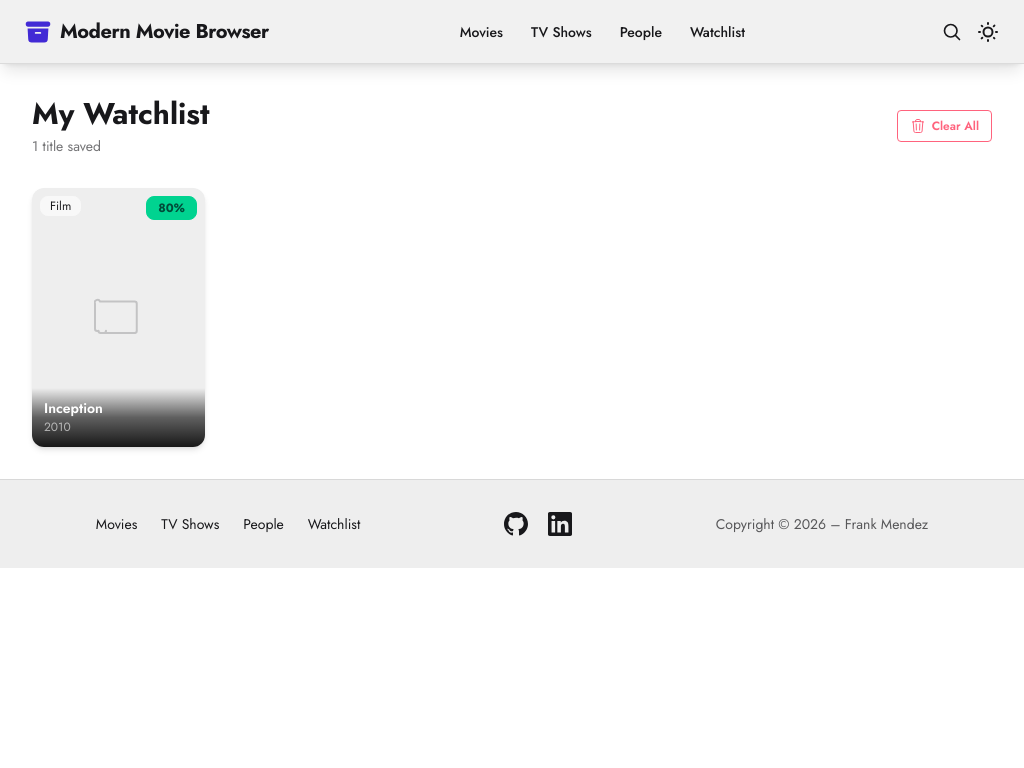
Test: Watchlist page › clears all items when Clear All is clicked
Click the button "Clear All": x=944, y=126 [897, 110, 992, 142]
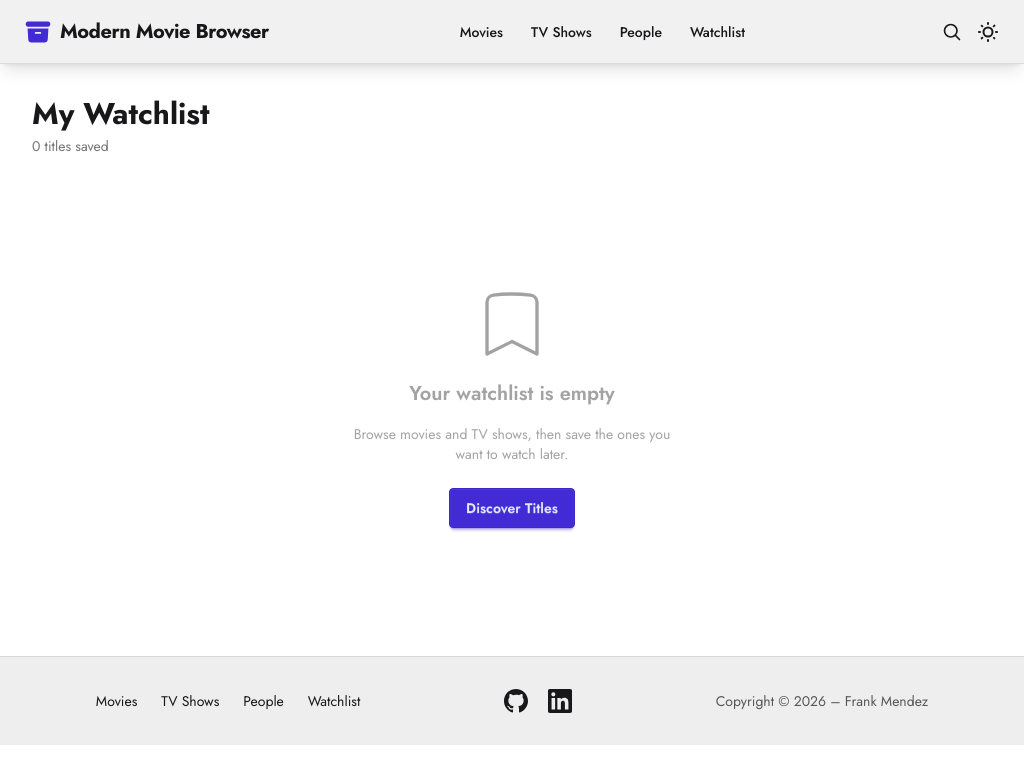
expect the text "Your watchlist is empty" is shown: met, box [409, 380, 615, 408]
